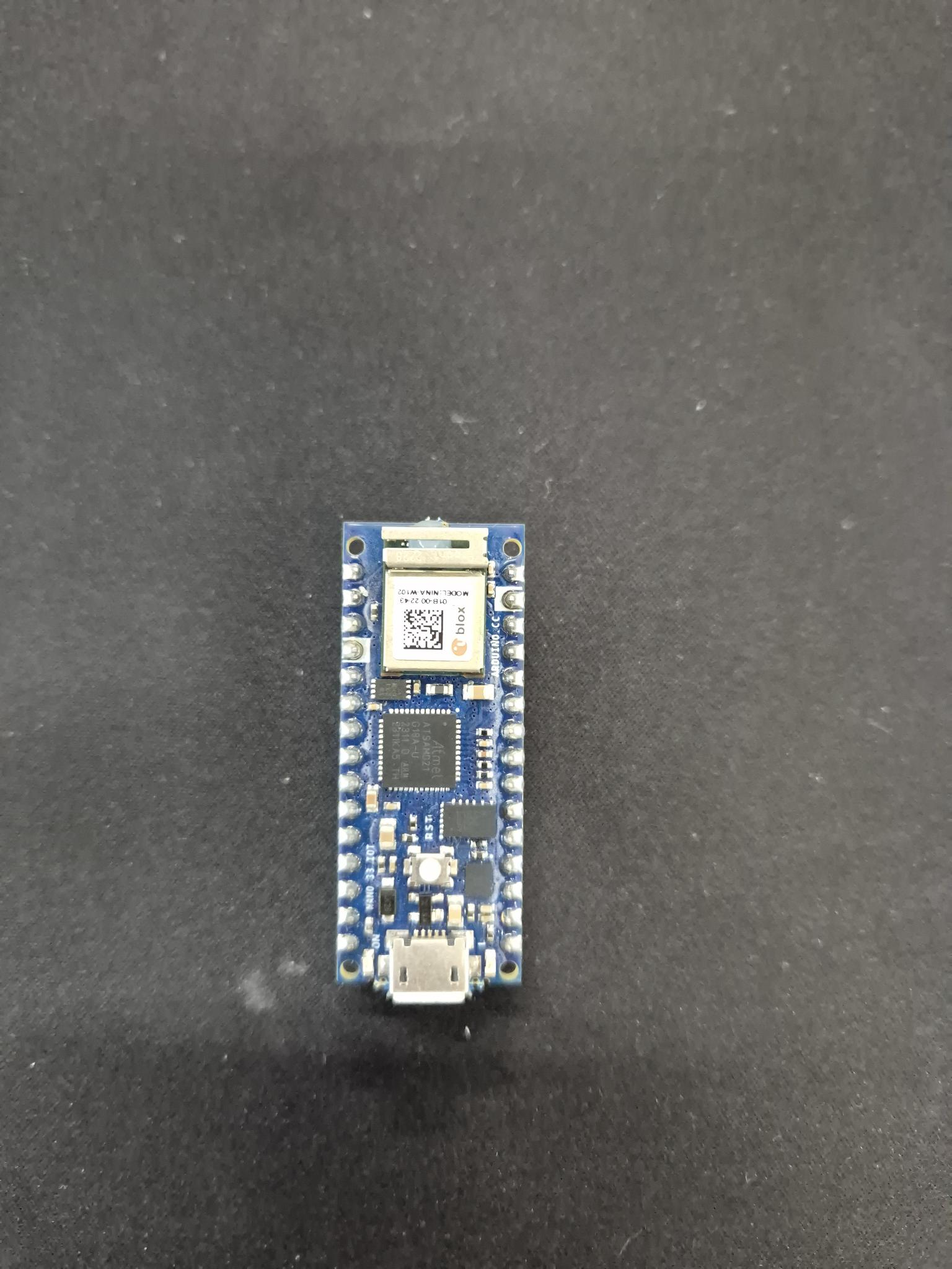arduino-nano-iot-33: (338, 519, 522, 993)
